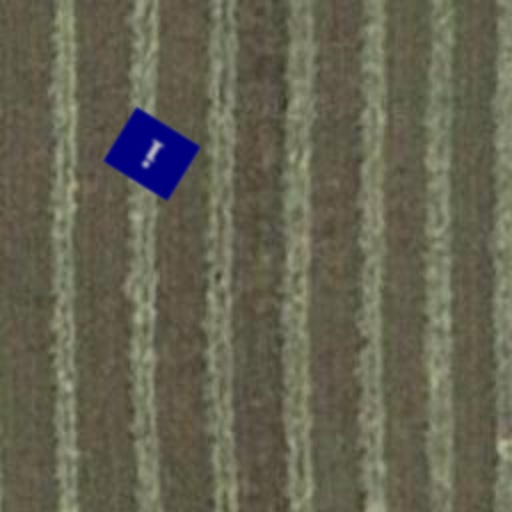rectangle: (98, 100, 206, 208)
